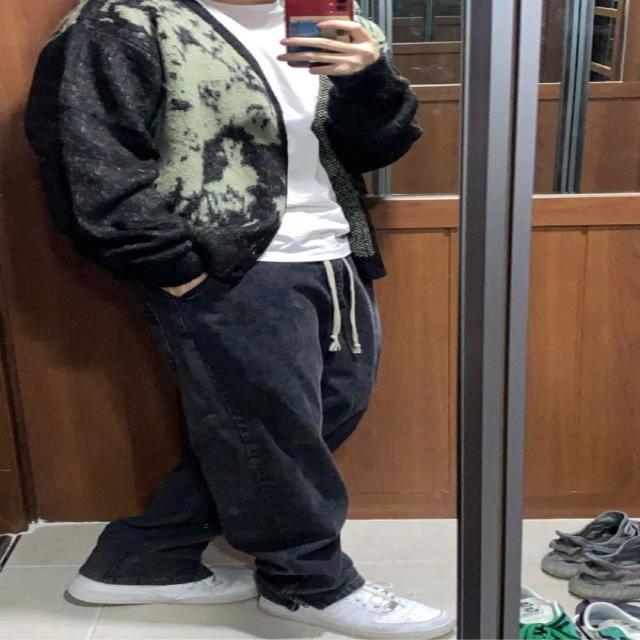cardigan: (28, 1, 420, 306)
denimpants: (80, 252, 380, 616)
